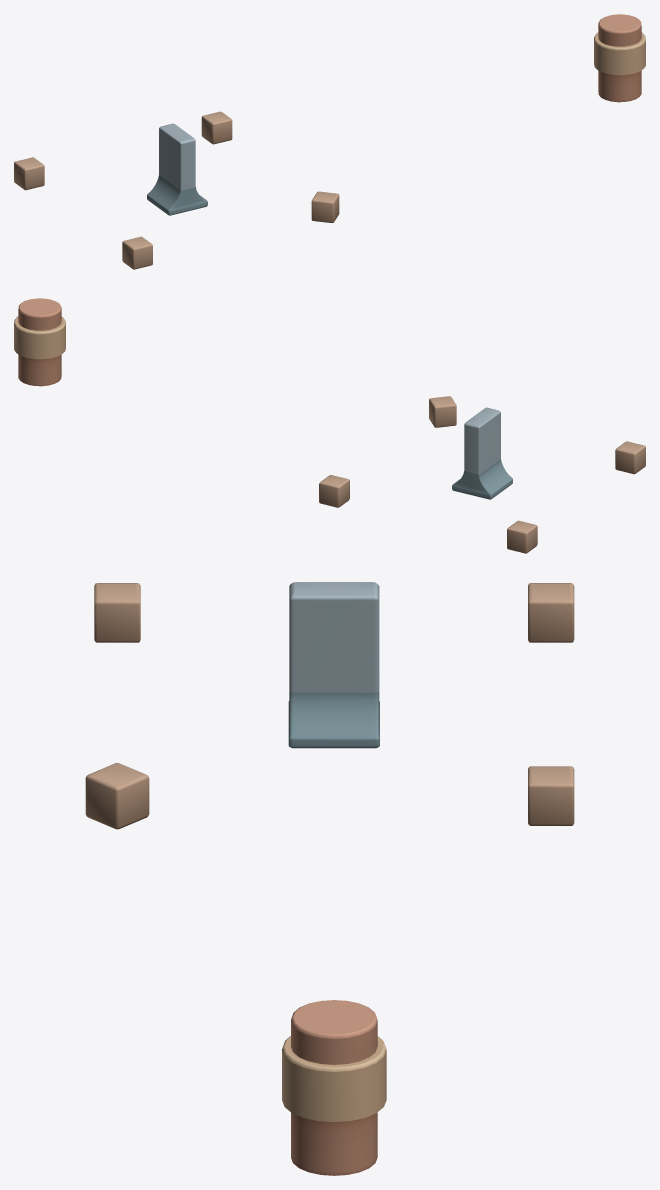
The model's file is Props.fbx.
3 views of the same model, one above another, from view 1: azimuth 30°, elevation 25°; view 2: azimuth 150°, elevation 25°; view 3: azimuth 270°, elevation 25° (orthographic). The views are drawn at different scales.
Parts seen in each view (by area): view 1: Cylinder-2 (1), 曲面单元, Box1-5 (3), Box1-5 (1), Box1-5, Box1-5 (2); view 2: Cylinder-2 (1), 曲面单元, Box1-5, Box1-5 (1), Box1-5 (3), Box1-5 (2); view 3: Cylinder-2 (1), 曲面单元, Box1-5 (2), Box1-5, Box1-5 (1), Box1-5 (3).
Boxes of the visible parts, <box> form: Cylinder-2 (1): <box>594,14,645,102</box>; 曲面单元: <box>147,123,207,215</box>; Box1-5 (3): <box>201,111,232,144</box>; Box1-5 (1): <box>14,157,44,190</box>; Box1-5: <box>122,236,152,269</box>; Box1-5 (2): <box>311,191,339,222</box>; Cylinder-2 (1): <box>14,298,65,386</box>; 曲面单元: <box>452,407,512,499</box>; Box1-5: <box>615,441,645,474</box>; Box1-5 (1): <box>507,520,537,553</box>; Box1-5 (3): <box>319,475,349,507</box>; Box1-5 (2): <box>429,396,456,427</box>; Cylinder-2 (1): <box>282,1000,386,1175</box>; 曲面单元: <box>288,582,379,748</box>; Box1-5 (2): <box>85,763,149,829</box>; Box1-5: <box>94,583,140,642</box>; Box1-5 (1): <box>528,583,574,642</box>; Box1-5 (3): <box>528,766,574,825</box>.
Size of the model in its own units: 42.44 by 5.15 by 15.78.
